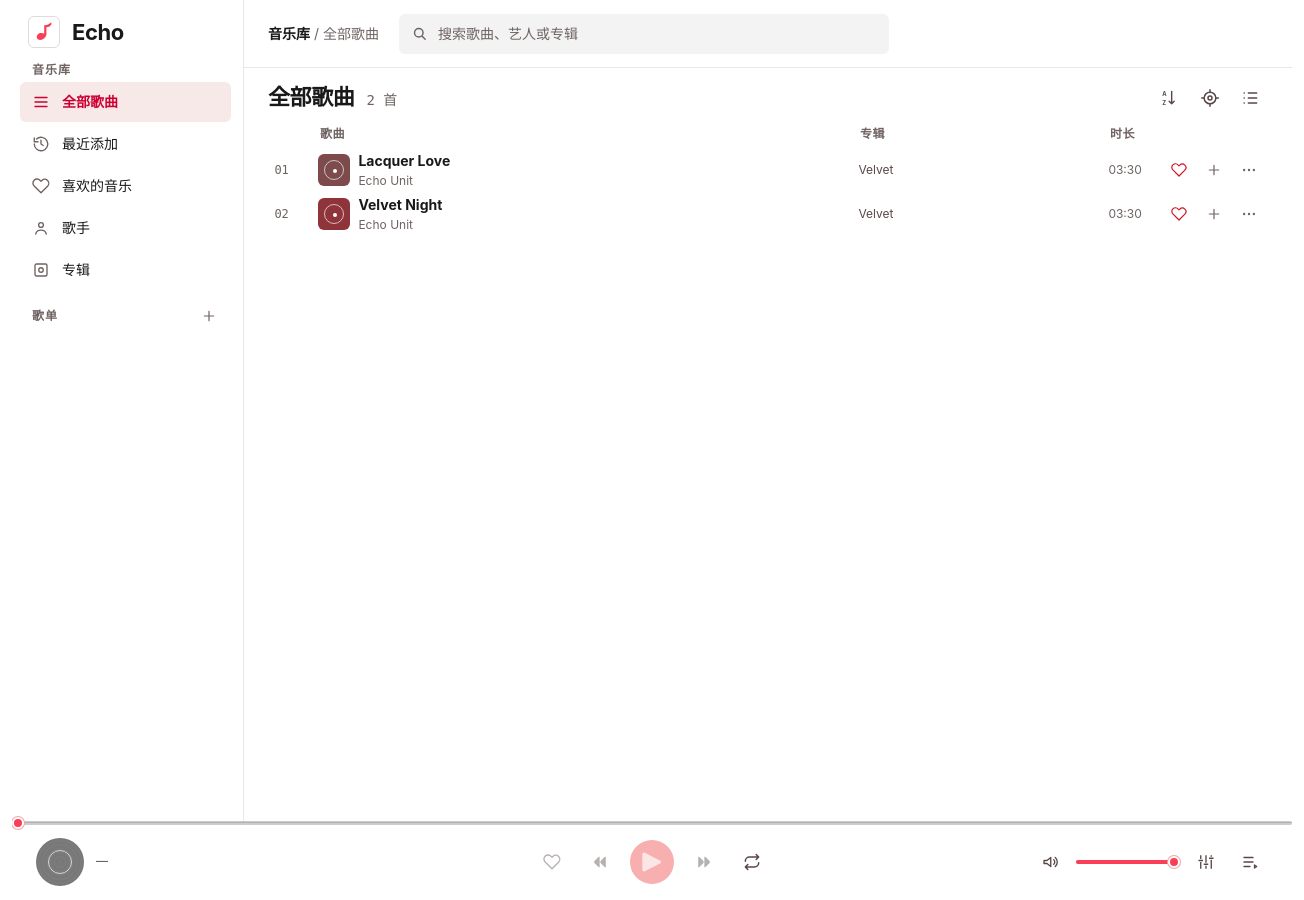
Test: 触发控件 toggle（fix-queue-trigger-toggle） › 非多选状态下右键同一行会切换单歌曲菜单
Step 1. Press the mouse on the row with test id "song-row-song-1" → (334, 170), box [268,148,1268,192]
Step 2. Right-click the row with test id "song-row-song-1" → (334, 170), box [268,148,1268,192]
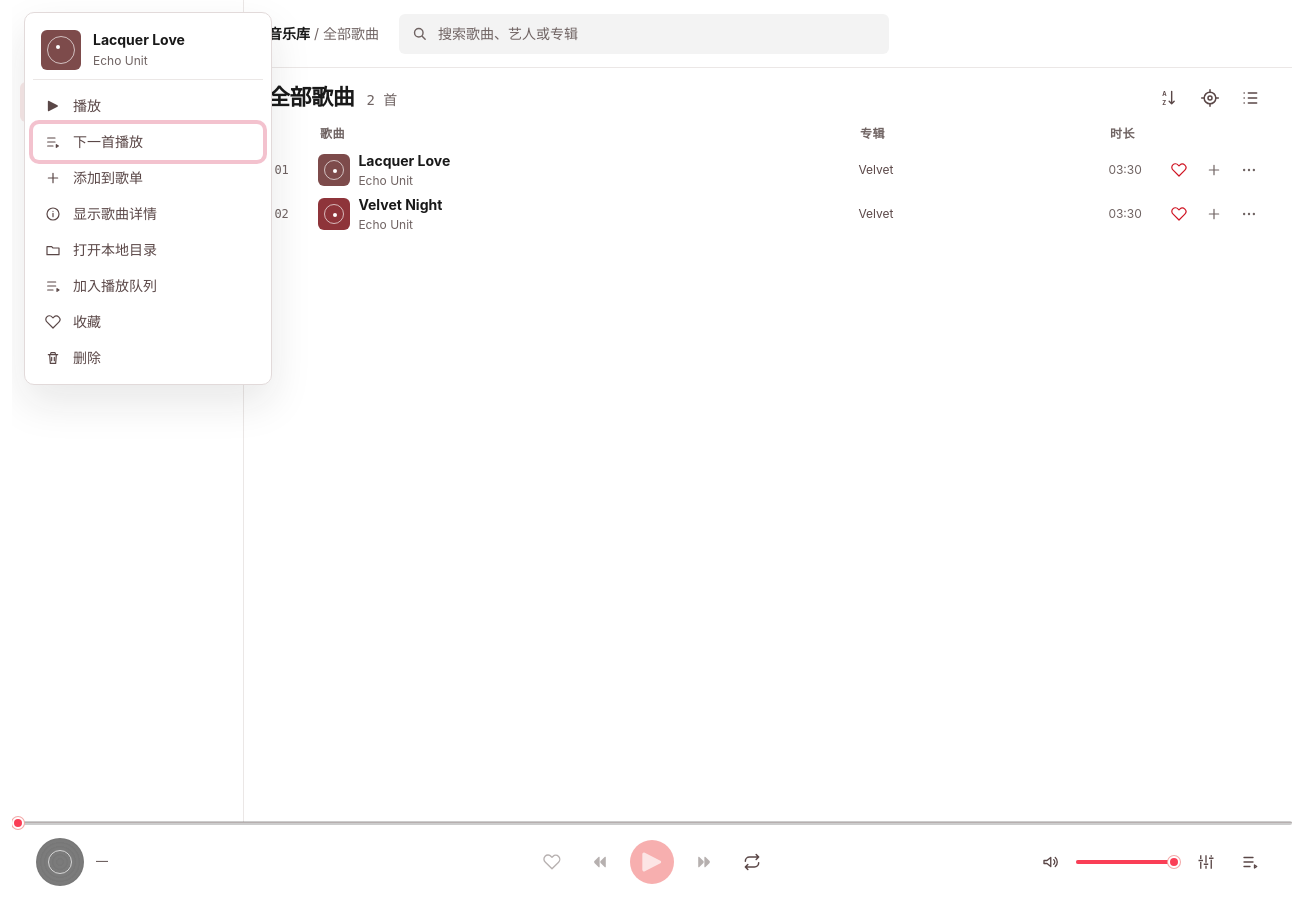
Check: the menu named "歌曲操作菜单" is shown, box [24,12,272,384]
Step 3. Press the mouse on the row with test id "song-row-song-1" → (334, 170), box [268,148,1268,192]
Step 4. Right-click the row with test id "song-row-song-1" → (334, 170), box [268,148,1268,192]
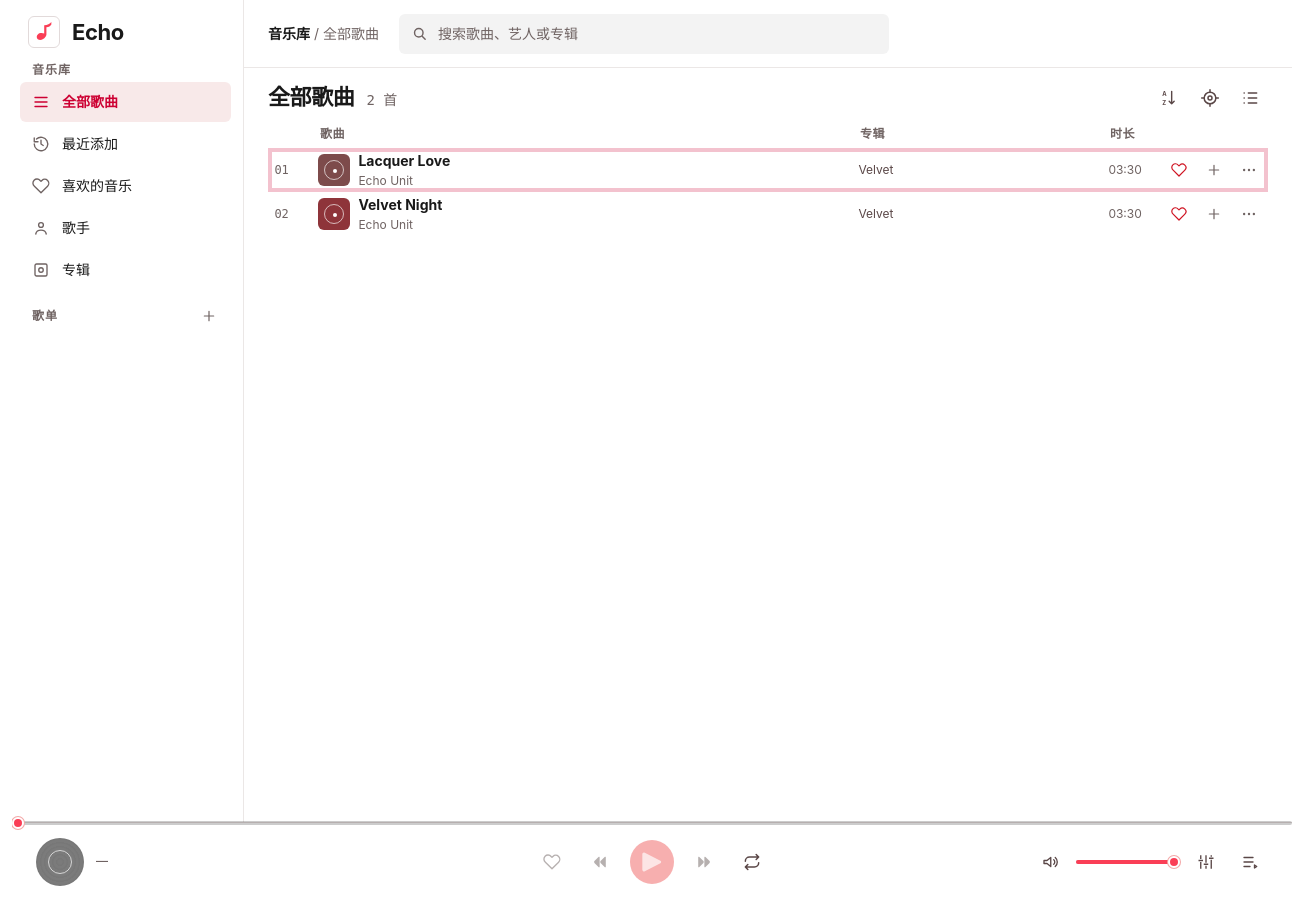
Check: the menu "歌曲操作菜单" is gone
